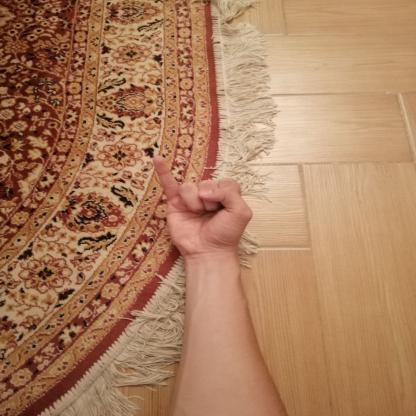MEEM: (141, 148, 263, 266)
